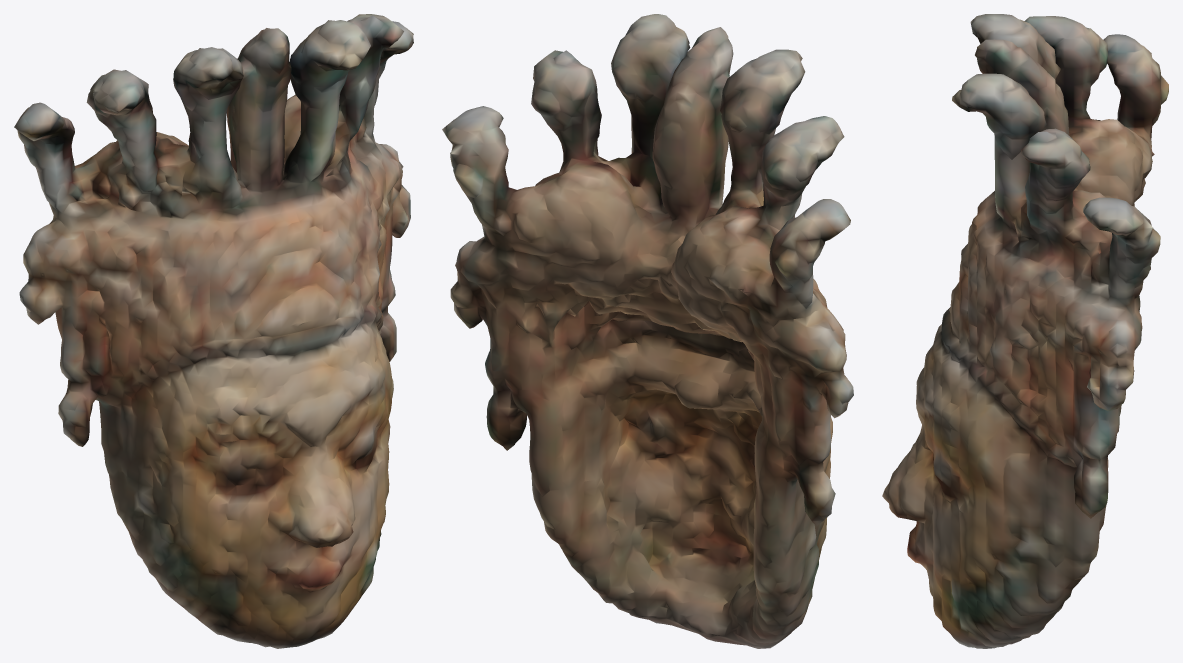
The model's file is jasaya.glb.
3 renders of one model, left to right at view 1: azimuth 30°, elevation 25°; view 2: azimuth 150°, elevation 25°; view 3: azimuth 270°, elevation 25°, orthographic. The views are drawn at different scales.
Parts seen in each view (by area): view 1: geometry_0; view 2: geometry_0; view 3: geometry_0.
Boxes of the visible parts, x1,y1,x2,y2 form: geometry_0: [14, 14, 413, 648]; geometry_0: [442, 14, 853, 648]; geometry_0: [882, 14, 1168, 648].
Bounding box in the file's own units: 0.6977 × 1.01 × 0.4477.
